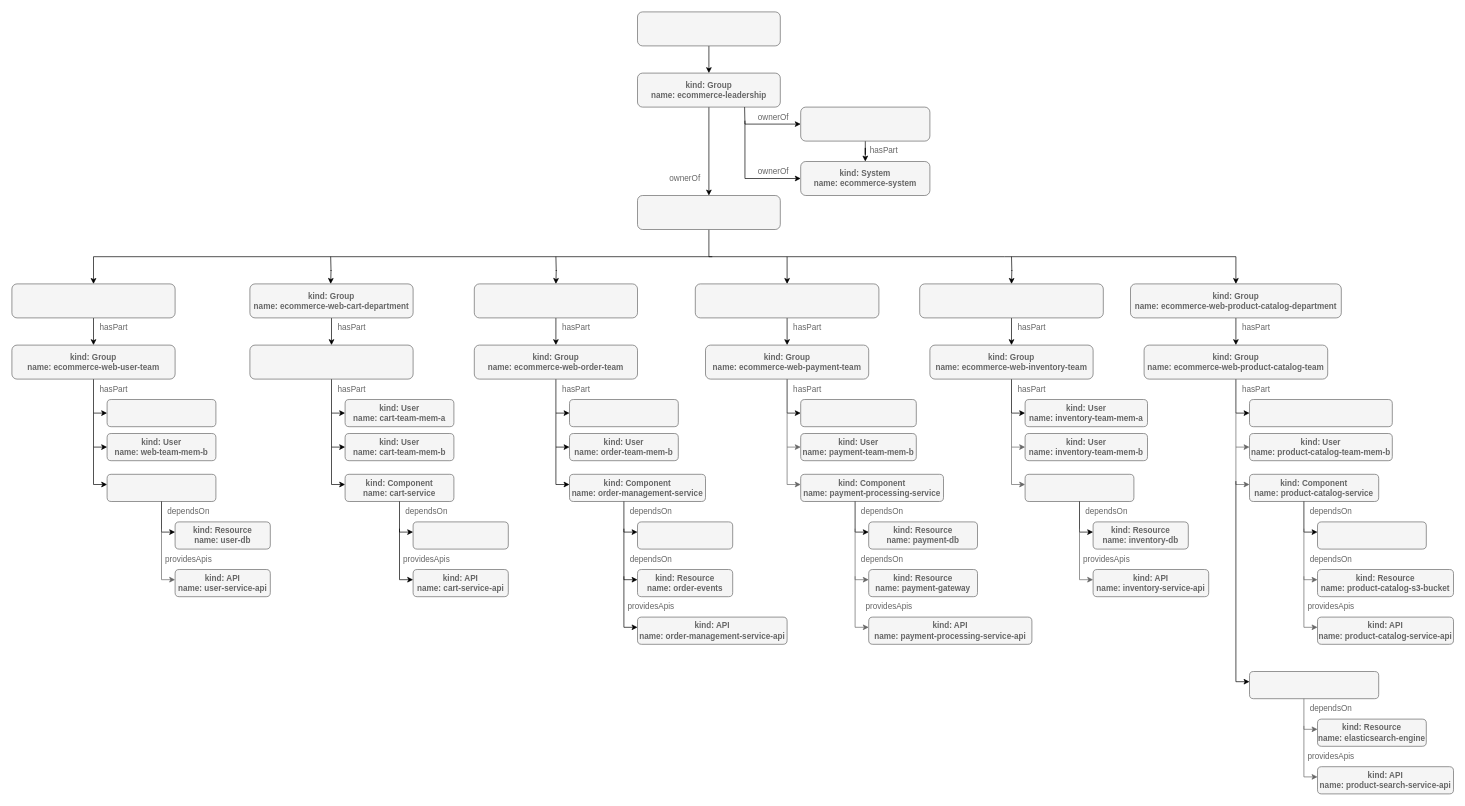
Some shapes in this 1465 by 806 pixel diagram are drawn without their labels. Here are the shapes that lost their labels. From the top down, the centre of each, then its label:
the point at 708,28: kind: Group name: ecommerce-org
the point at 865,123: kind: Domain name: ecommerce- domain
the point at 708,212: kind: Group name: ecommerce-web-department
the point at 93,300: kind: Group name: ecommerce-web-user-department
the point at 556,300: kind: Group name: ecommerce-web-order-department
the point at 787,300: kind: Group name: ecommerce-web-payment-department
the point at 1011,300: kind: Group name: ecommerce -web -inventory-department
the point at 331,361: kind: Group name: ecommerce-web-cart-team
the point at 161,413: kind: User name: web-team-mem-a
the point at 623,413: kind: User name: order-team-mem-a
the point at 858,413: kind: User name: payment -team-mem-a
the point at 1320,413: kind: User name: product-catalog -team-mem-a
the point at 161,488: kind: Component name: user-service
the point at 1079,488: kind: Component name: inventory -service
the point at 460,535: kind: Resource name: cart-redis
the point at 685,535: kind: Resource name: orders-db
the point at 1371,535: kind: Resource name: product-catalog -db
the point at 1314,685: kind: Component name: product-search -service
